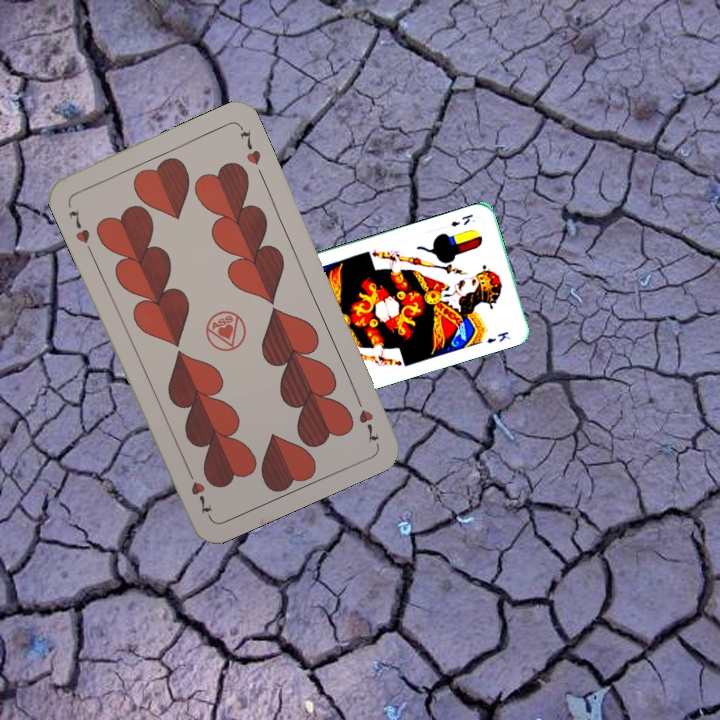EK: (447, 210, 475, 229)
H7: (351, 390, 382, 445), (64, 205, 93, 246)
